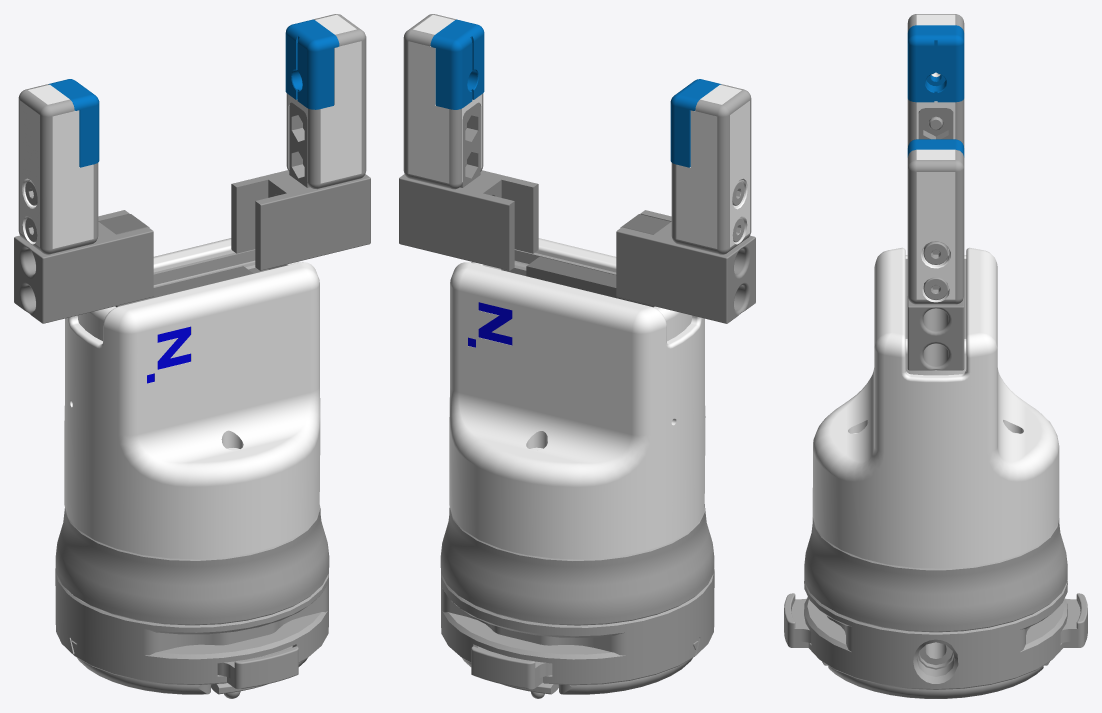
The model's file is gripper_sim.dae.
The picture shows the model from 3 angles, left to right: view 1: azimuth 30°, elevation 25°; view 2: azimuth 150°, elevation 25°; view 3: azimuth 270°, elevation 25°; orthographic projection. The views are drawn at different scales.
Parts seen in each view (by area): view 1: gripper_sim_extended (×43); view 2: gripper_sim_extended (×43); view 3: gripper_sim_extended (×42).
Part boxes in pixels (x1=…): gripper_sim_extended (×43): x1=14, y1=38, x2=369, y2=691; gripper_sim_extended (×43): x1=400, y1=38, x2=755, y2=691; gripper_sim_extended (×42): x1=804, y1=14, x2=1067, y2=698.
Size of the model in its own units: 0.1038 by 0.0863 by 0.1839.
